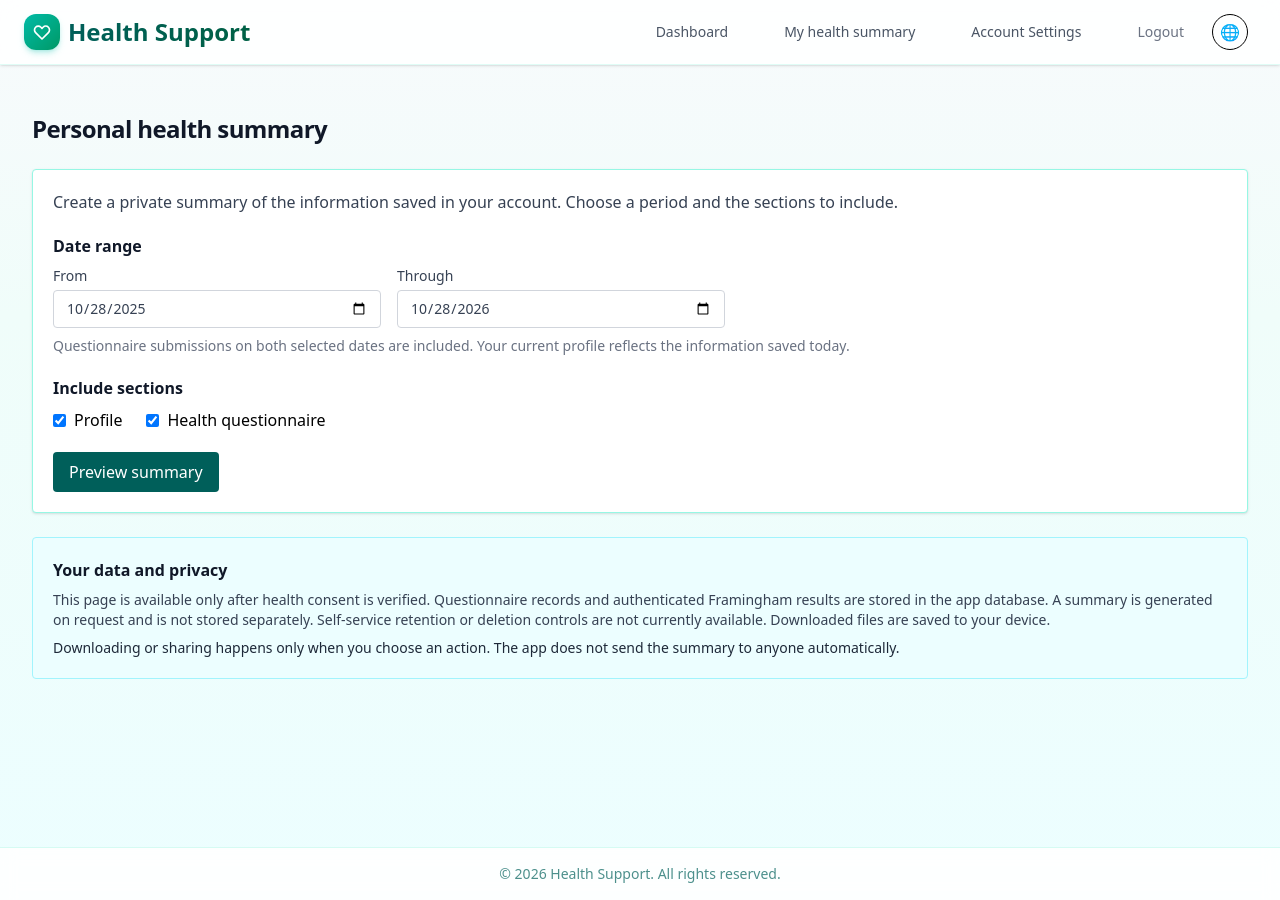
Test: HealthSummary › shows questionnaire details and the Framingham result in one preview
Step 1. Click the button "Preview summary" → (136, 472), box [53,452,219,492]
(page scrolled)
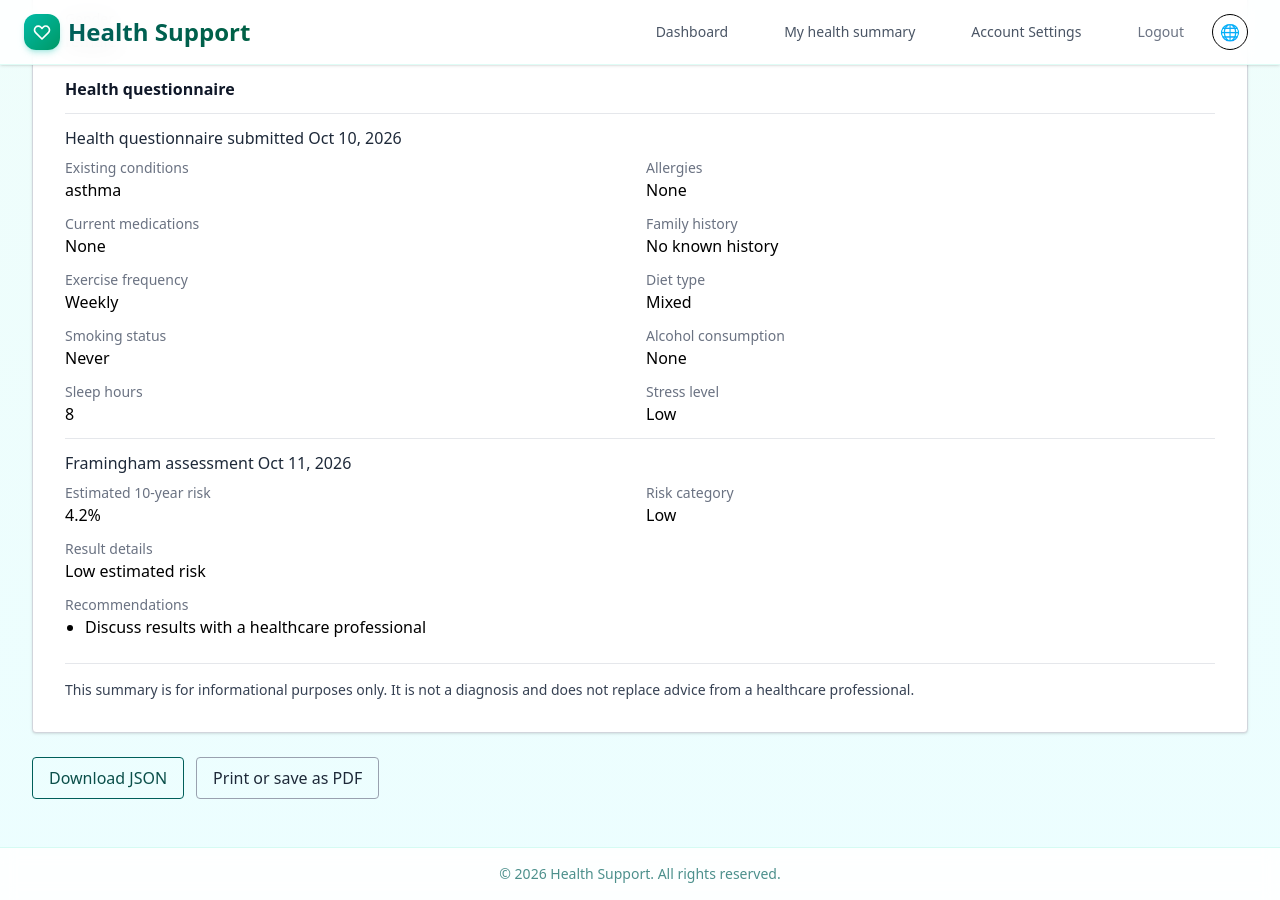
expect the text "asthma" is shown: met, box [65,179,121,201]
expect the text "Low estimated risk" is shown: met, box [65,560,206,582]
expect the text "4.2%" is shown: met, box [65,504,101,526]
